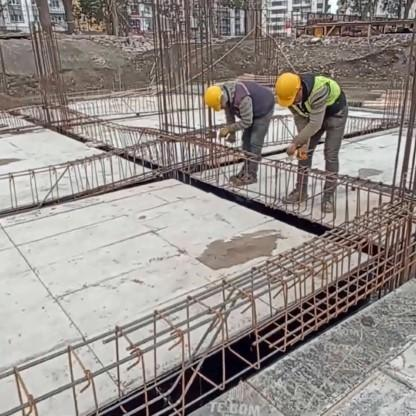helmet: (190, 78, 234, 115), (275, 75, 310, 108)
